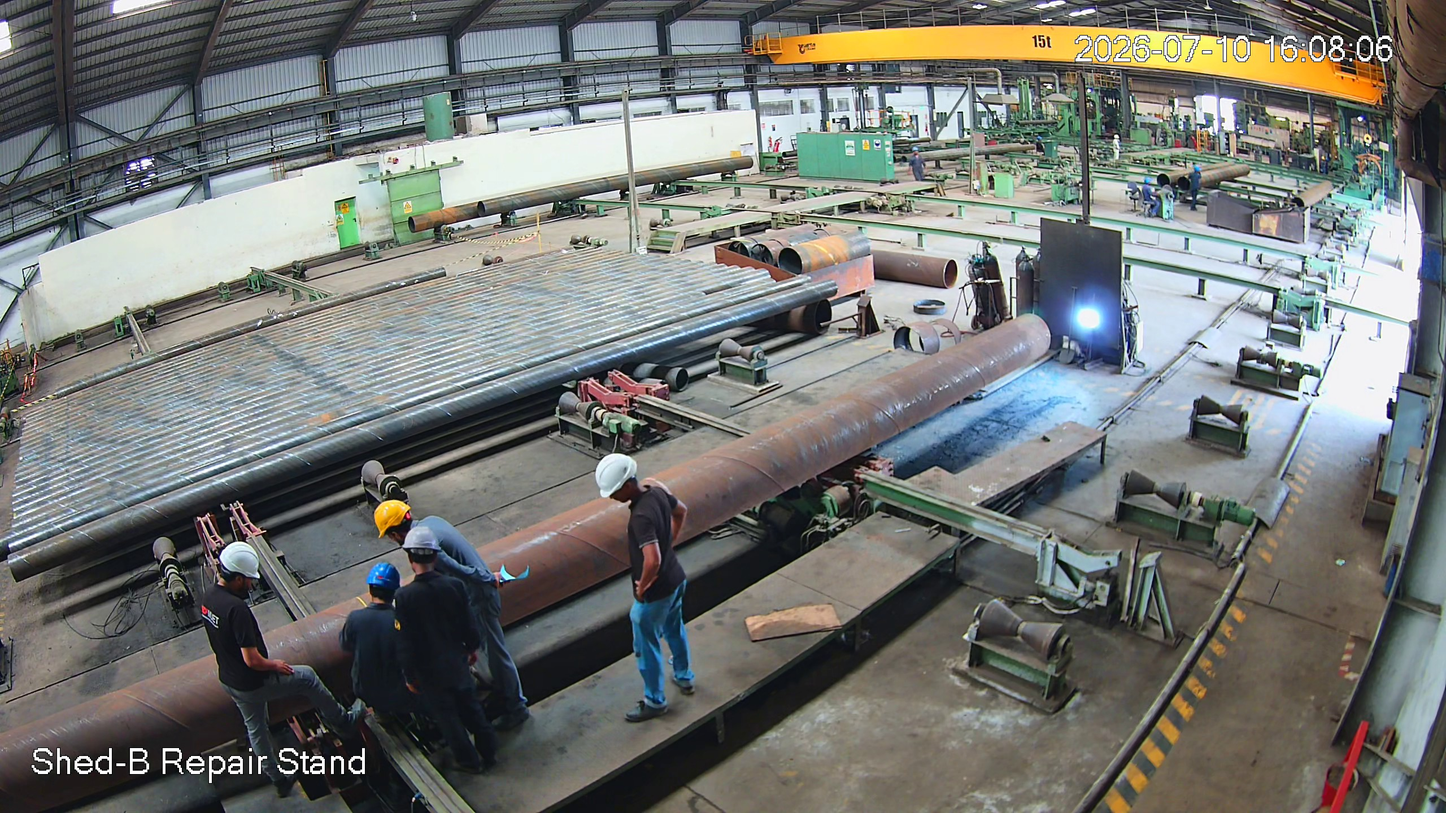Helmet: (583, 441, 656, 519), (207, 532, 270, 613), (362, 488, 431, 553), (400, 529, 460, 590), (361, 552, 408, 622)
Person: (579, 451, 710, 728), (196, 536, 311, 788), (344, 524, 437, 794), (394, 536, 470, 773), (333, 566, 420, 743)
